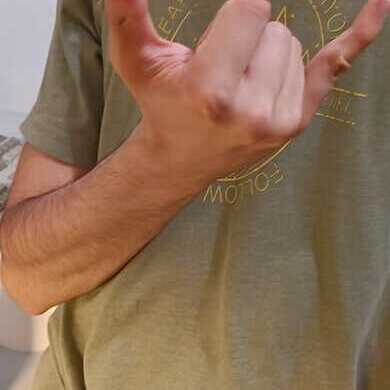Y: (105, 1, 390, 173)
